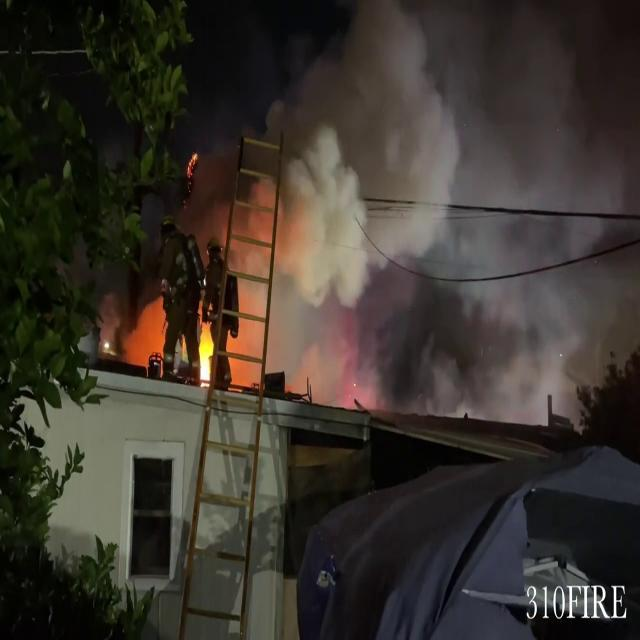Fire: (196, 306, 216, 386)
Smoke: (230, 0, 640, 401)
